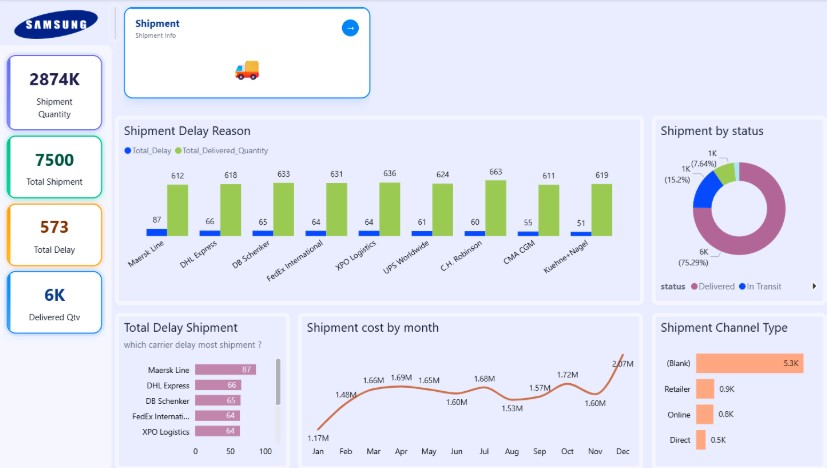

What the dashboard file says about the page in this screenshot:
{"tool":"powerbi","page":{"name":"Shipment","canvas":[1280,720],"ordinal":4},"visuals":[{"type":"shape","box":[171.4,7.2,17.3,57.6],"z":0},{"type":"image","box":[0,0,180,85],"z":1000},{"type":"clusteredBarChart","title":"Total Delay Shipment","fields":{"Y":["Measures Table.Total_Delay"],"Category":["fact_shipment.carrier"]},"box":[180,479.5,267.8,240.5],"z":6000},{"type":"clusteredColumnChart","title":"Shipment Delay Reason","fields":{"Y":["Measures Table.Total_Delay","Measures Table.Total_Delivered_Quantity"],"Category":["fact_shipment.carrier"]},"box":[180,178.6,809.3,289.4],"z":7000},{"type":"lineChart","title":"Shipment cost by month","fields":{"Category":["dim_date.month_short"],"Y":["Measures Table.Shipment_cost"]},"box":[460.8,479.5,528.5,240.5],"z":8000},{"type":"clusteredBarChart","title":"Shipment Channel Type","fields":{"Y":["Measures Table.Total_Shipment"],"Category":["dim_customer.channel_type"]},"box":[1002.2,479.5,267.8,240.5],"z":9000},{"type":"donutChart","title":"Shipment by status","fields":{"Category":["fact_shipment.status"],"Y":["Measures Table.Total_Shipment"]},"box":[1002.2,178.6,267.8,289.4],"z":10000},{"type":"htmlContent443BE3AD55E043BF878BED274D3A6855","fields":{"content":["Measures Table.HTML_Border_Nav_Shipment"]},"box":[188.4,6.9,387.2,178.1],"z":11000},{"type":"htmlContent443BE3AD55E043BF878BED274D3A6855","fields":{"content":["Measures Table.HTML_ShipmentBorder_KPI_Panel"]},"box":[0,84.6,175,635.4],"z":12000},{"type":"slicer","fields":{"Values":["dim_product.product_name"]},"box":[988.8,17.6,250.1,117.4],"z":12001}]}

Visuals, with their boxes in screenshot pixels (x1, y1, x2, y2), scaled from the page's 1280x720 canvas onto the 827x468 screenshot:
shape: {"left": 111, "top": 5, "right": 122, "bottom": 42}
image: {"left": 0, "top": 0, "right": 116, "bottom": 55}
"Total Delay Shipment" clusteredBarChart: {"left": 116, "top": 312, "right": 289, "bottom": 467}
"Shipment Delay Reason" clusteredColumnChart: {"left": 116, "top": 116, "right": 639, "bottom": 304}
"Shipment cost by month" lineChart: {"left": 298, "top": 312, "right": 639, "bottom": 467}
"Shipment Channel Type" clusteredBarChart: {"left": 648, "top": 312, "right": 821, "bottom": 467}
"Shipment by status" donutChart: {"left": 648, "top": 116, "right": 821, "bottom": 304}
htmlContent443BE3AD55E043BF878BED274D3A6855 - Measures Table.HTML_Border_Nav_Shipment: {"left": 122, "top": 4, "right": 372, "bottom": 120}
htmlContent443BE3AD55E043BF878BED274D3A6855 - Measures Table.HTML_ShipmentBorder_KPI_Panel: {"left": 0, "top": 55, "right": 113, "bottom": 467}
slicer - dim_product.product_name: {"left": 639, "top": 11, "right": 800, "bottom": 88}
